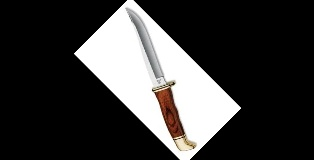k1: (123, 5, 177, 96)
